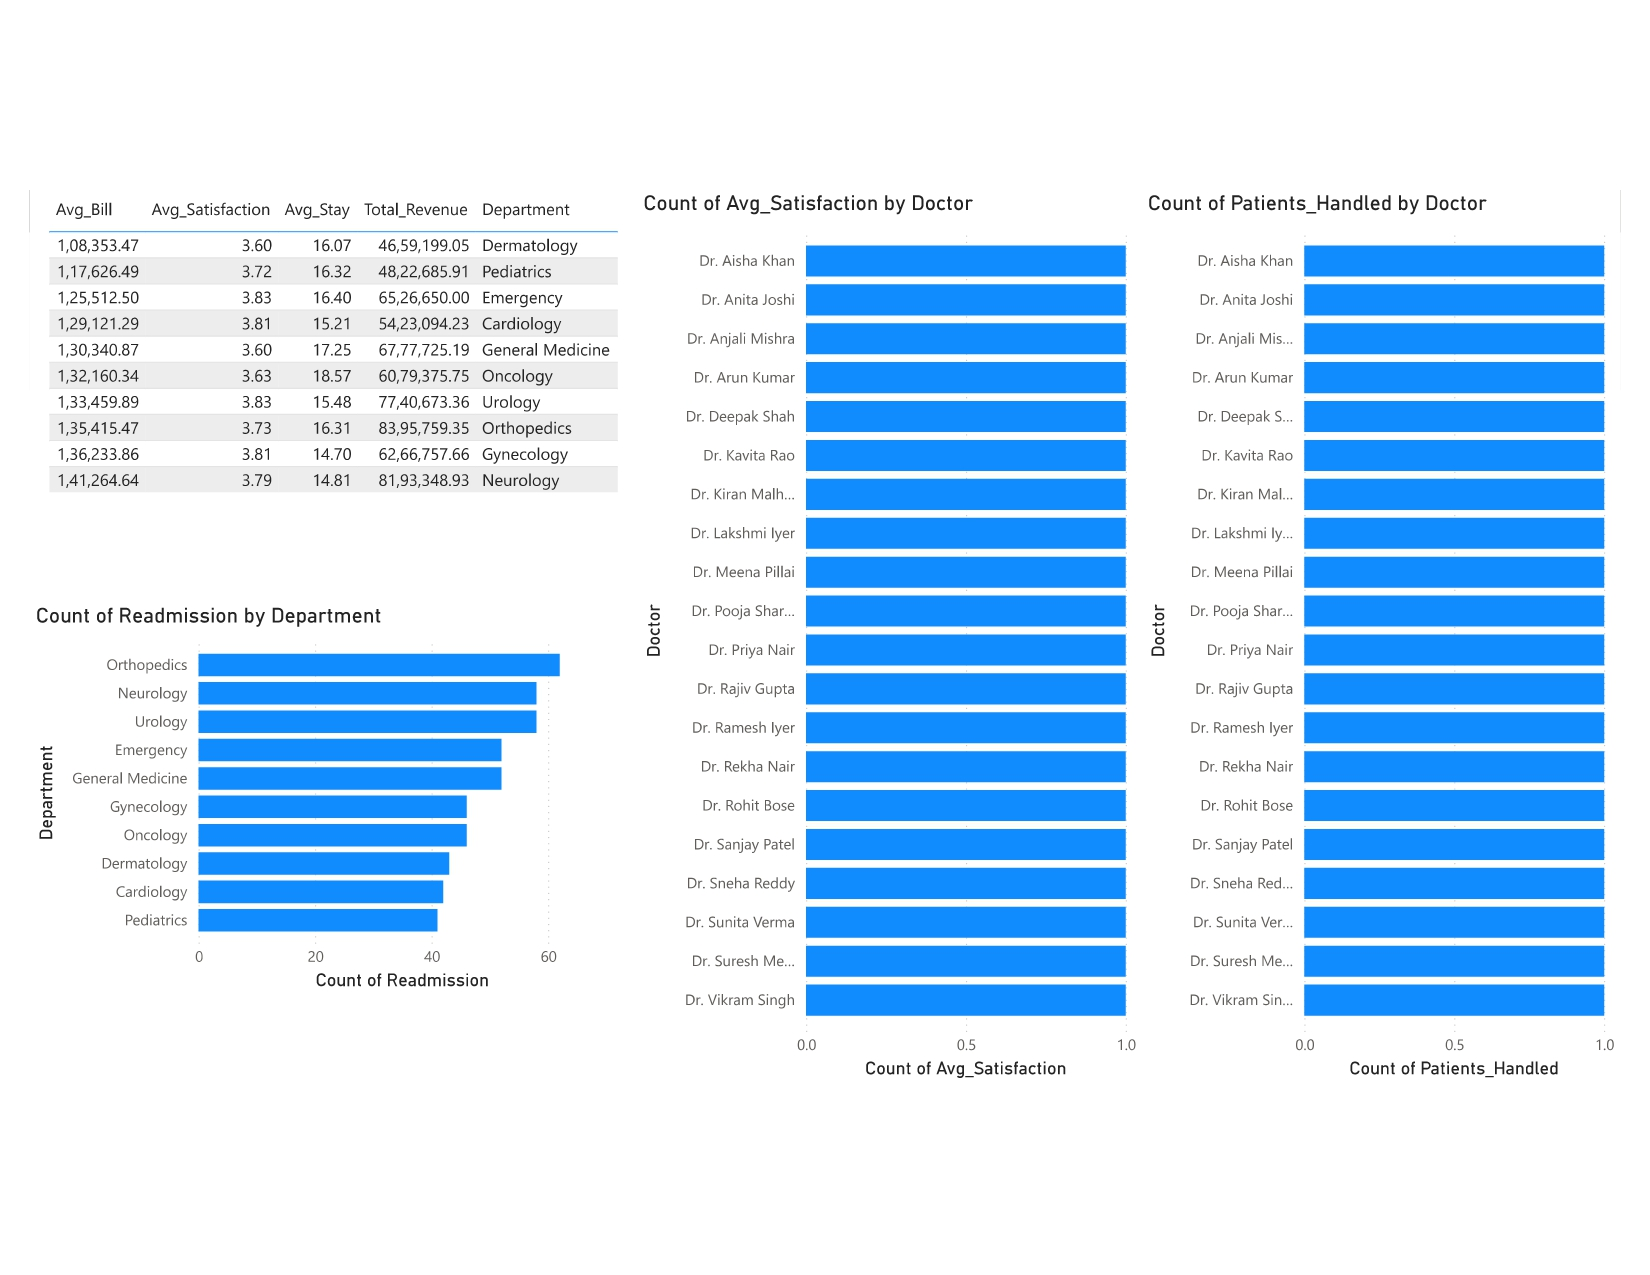

Layout of this report page (visuals, bound fields, positions):
{"tool":"powerbi","page":{"name":"Page 3","canvas":[1280,720],"ordinal":2},"visuals":[{"type":"tableEx","fields":{"Values":["Dept_Summary.Avg_Bill","Dept_Summary.Avg_Satisfaction","Dept_Summary.Avg_Stay","Dept_Summary.Total_Revenue","Dept_Summary.Department"]},"box":[9.6,0,478.9,263.5],"z":0},{"type":"clusteredBarChart","fields":{"Category":["Doctor_Performance.Doctor"],"Y":["CountNonNull(Doctor_Performance.Avg_Satisfaction)"]},"box":[488.5,0,406.2,720.4],"z":1000},{"type":"clusteredBarChart","fields":{"Category":["Patient_Data.Department"],"Y":["CountNonNull(Patient_Data.Readmission)"]},"box":[0,332.1,476.2,317],"z":2000},{"type":"clusteredBarChart","fields":{"Category":["Doctor_Performance.Doctor"],"Y":["CountNonNull(Doctor_Performance.Patients_Handled)"]},"box":[894.7,0,385.6,720.4],"z":3000}]}

Visuals, with their boxes on the page's 1280x720 design canvas (x1, y1, x2, y2). These are canvas units, not pixel positions in the 1650x1275 screenshot, which may show the page scaled, cropped or inside an application window:
tableEx - Dept_Summary.Avg_Bill x Dept_Summary.Avg_Satisfaction: box=[10, 0, 488, 264]
clusteredBarChart - Doctor_Performance.Doctor x CountNonNull(Doctor_Performance.Avg_Satisfaction): box=[488, 0, 895, 720]
clusteredBarChart - Patient_Data.Department x CountNonNull(Patient_Data.Readmission): box=[0, 332, 476, 649]
clusteredBarChart - Doctor_Performance.Doctor x CountNonNull(Doctor_Performance.Patients_Handled): box=[895, 0, 1280, 720]
